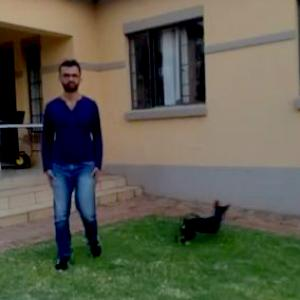follow: (42, 60, 109, 265)
